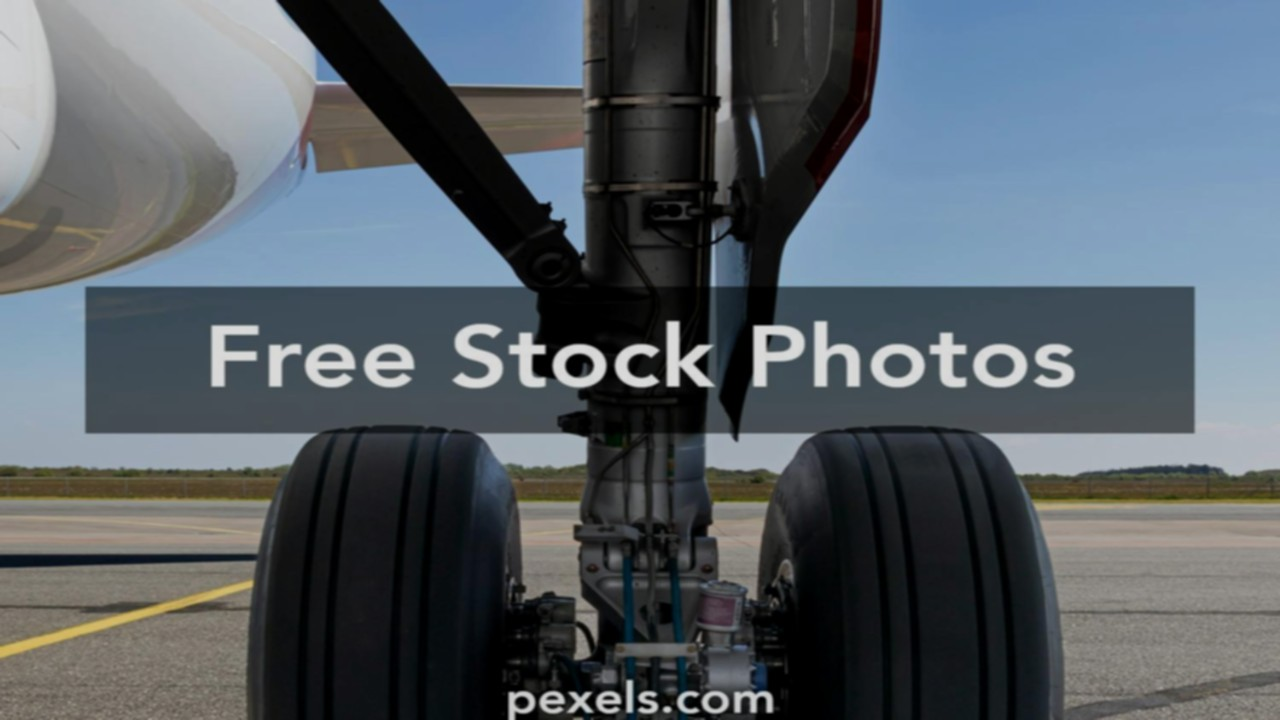wheel: (764, 426, 1065, 716), (242, 426, 521, 718)
